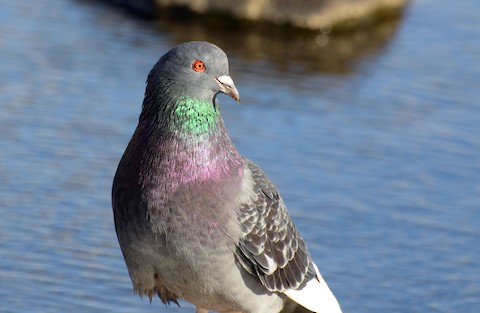pigeon: (111, 37, 346, 308)
